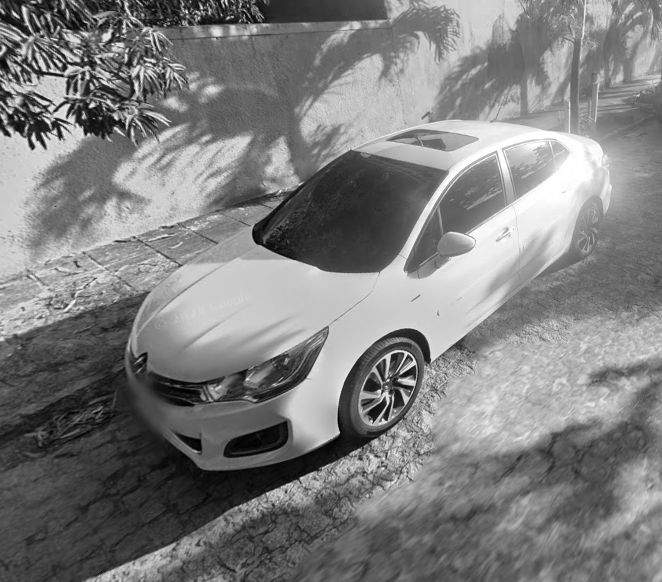car: (118, 102, 615, 475)
